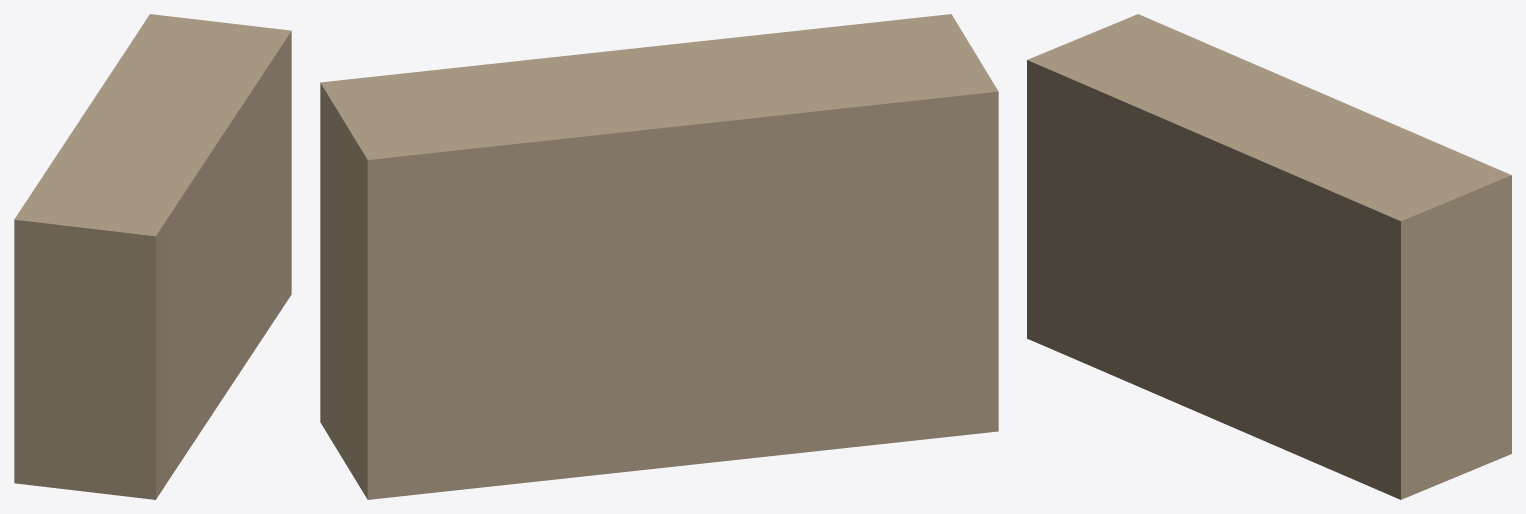
Rendered from bld_100469818.dae.
3 renders of one model, left to right at view 1: azimuth 30°, elevation 25°; view 2: azimuth 150°, elevation 25°; view 3: azimuth 270°, elevation 25°, orthographic. The views are drawn at different scales.
Visible parts, largest first — view 1: bld_100469818; view 2: bld_100469818; view 3: bld_100469818.
Part boxes in pixels (<box>): bld_100469818: <box>14,14,291,499</box>; bld_100469818: <box>320,14,998,499</box>; bld_100469818: <box>1027,14,1511,499</box>.
Bounding box in the file's own units: 12.76 × 12.61 × 8.
